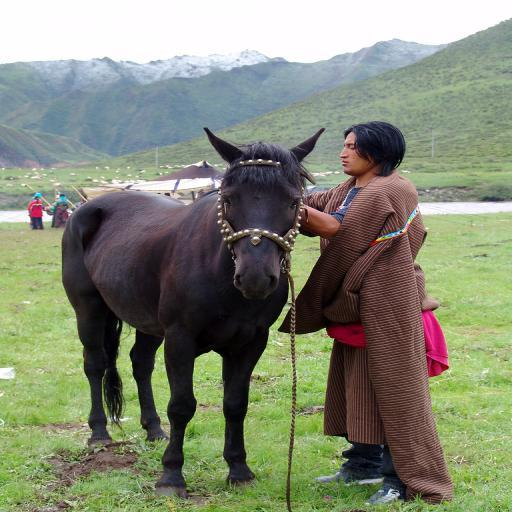Horse: (58, 128, 326, 498)
